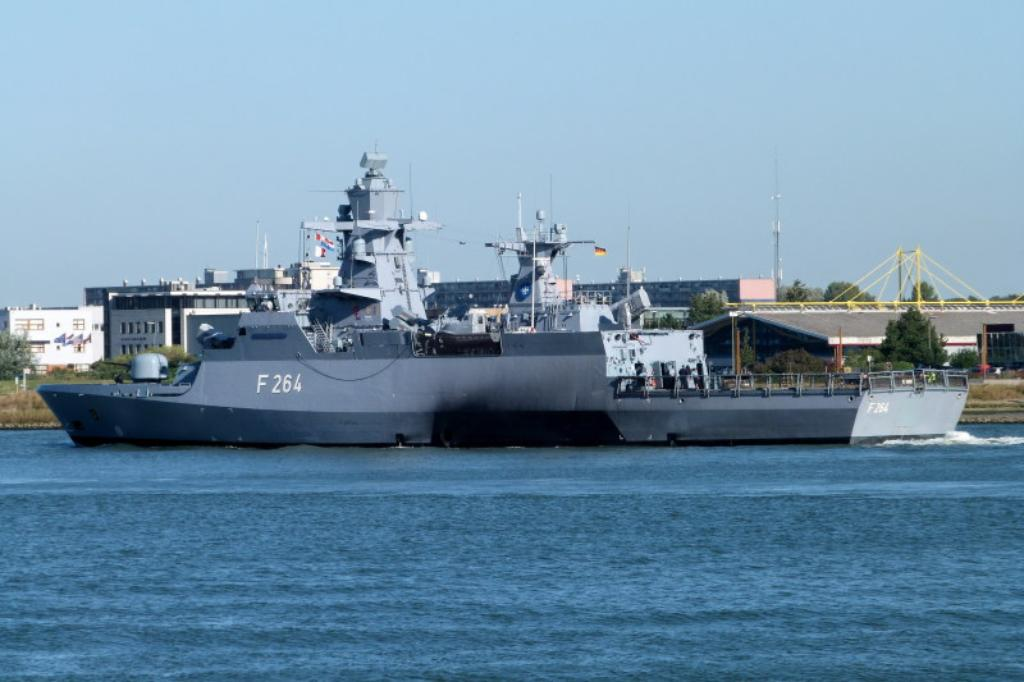Warship: (37, 140, 971, 448)
